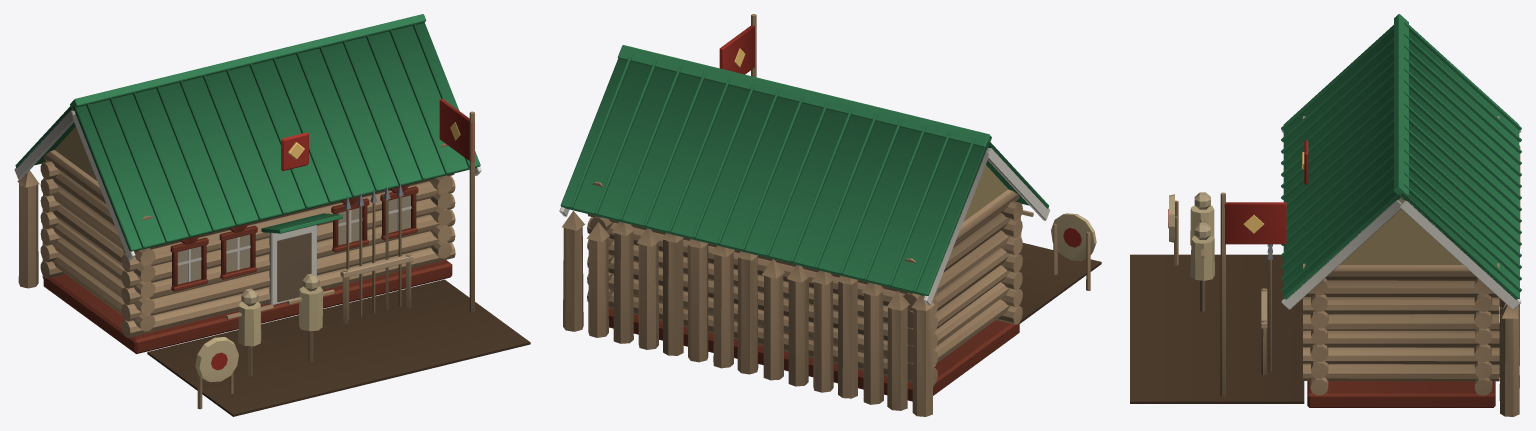
Rendered from bld_kazarma_e2.glb.
3 views of the same model, side by side, from view 1: azimuth 30°, elevation 25°; view 2: azimuth 150°, elevation 25°; view 3: azimuth 270°, elevation 25° (orthographic). The views are drawn at different scales.
Parts seen in each view (by area): view 1: kazarma; view 2: kazarma; view 3: kazarma.
Part boxes in pixels (x1=…): kazarma: x1=14, y1=14, x2=530, y2=416; kazarma: x1=559, y1=14, x2=1101, y2=416; kazarma: x1=1130, y1=14, x2=1521, y2=416.
Size of the model in its own units: 2 by 1.27 by 1.91.
